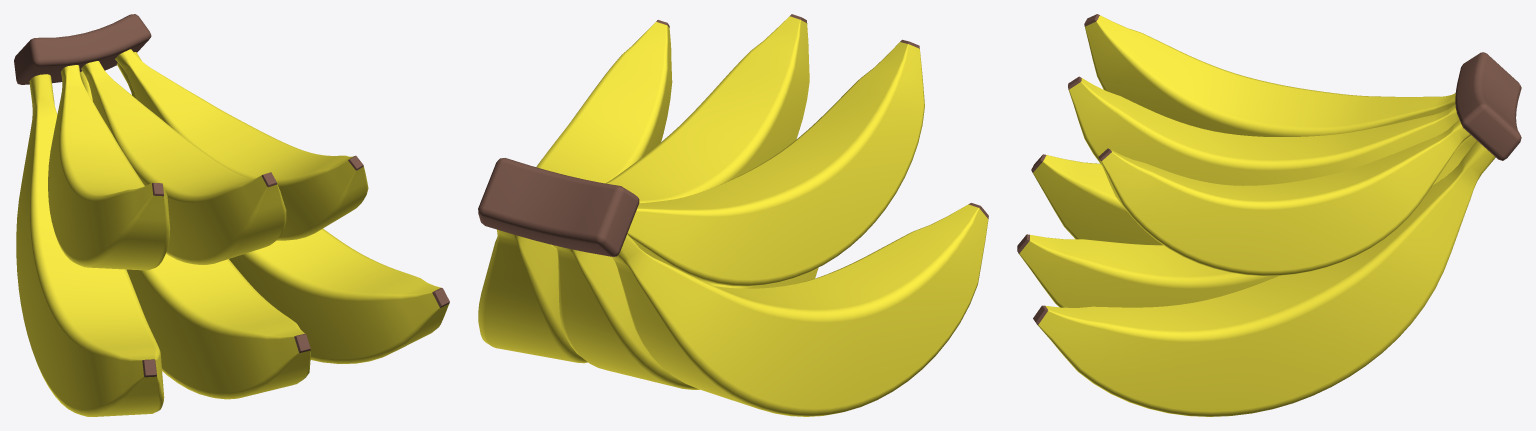
The model's file is Isl_9_Bunch_of_Bananas_2.fbx.
The picture shows the model from 3 angles, left to right: view 1: azimuth 30°, elevation 25°; view 2: azimuth 150°, elevation 25°; view 3: azimuth 270°, elevation 25°; orthographic projection. The views are drawn at different scales.
Visible parts, largest first — view 1: Isl_9_Bunch_of_Bananas_2; view 2: Isl_9_Bunch_of_Bananas_2; view 3: Isl_9_Bunch_of_Bananas_2.
Boxes of the visible parts, x1,y1,x2,y2 form: Isl_9_Bunch_of_Bananas_2: (14,14,449,416); Isl_9_Bunch_of_Bananas_2: (478,14,988,416); Isl_9_Bunch_of_Bananas_2: (1017,14,1521,416).
Size of the model in its own units: 43.98 by 33.02 by 55.09.
